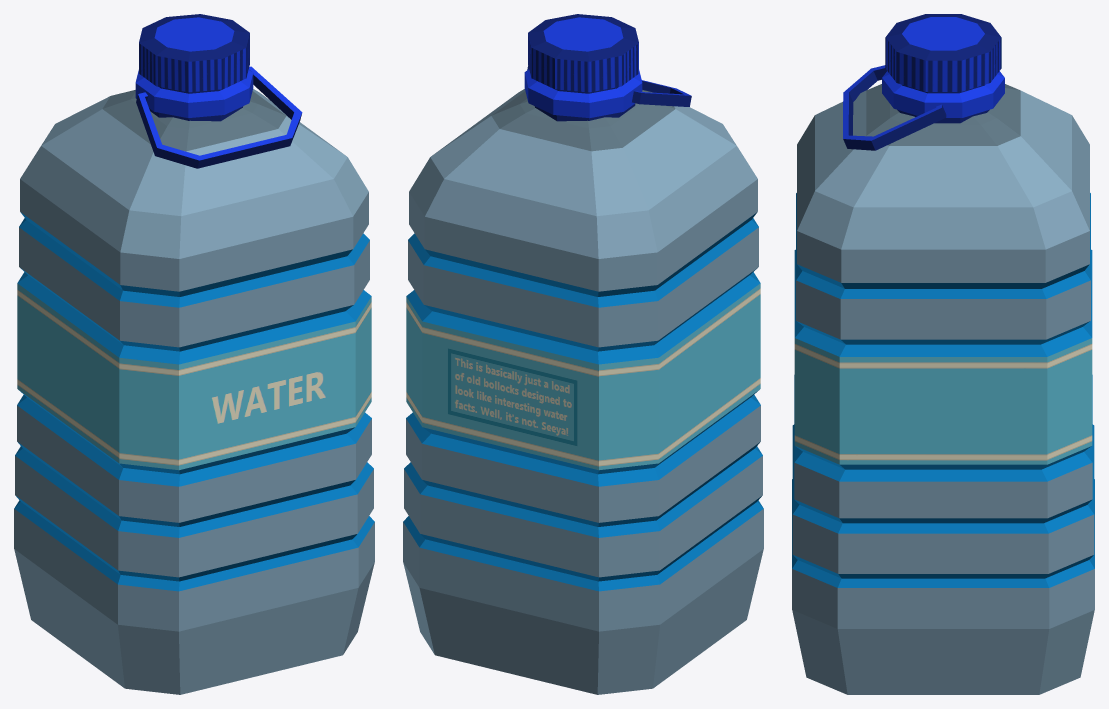
File: WorldItem_GiantWaterBottle.fbx
The picture shows the model from 3 angles, left to right: view 1: azimuth 30°, elevation 25°; view 2: azimuth 150°, elevation 25°; view 3: azimuth 270°, elevation 25°; orthographic projection.
Parts seen in each view (by area): view 1: ZomboidGiantWaterBottle; view 2: ZomboidGiantWaterBottle; view 3: ZomboidGiantWaterBottle.
Boxes of the visible parts, <box> form: ZomboidGiantWaterBottle: <box>14,14,374,694</box>; ZomboidGiantWaterBottle: <box>403,14,763,694</box>; ZomboidGiantWaterBottle: <box>792,14,1094,694</box>.
Bounding box in the file's own units: 0.1617 × 0.3556 × 0.1617.
